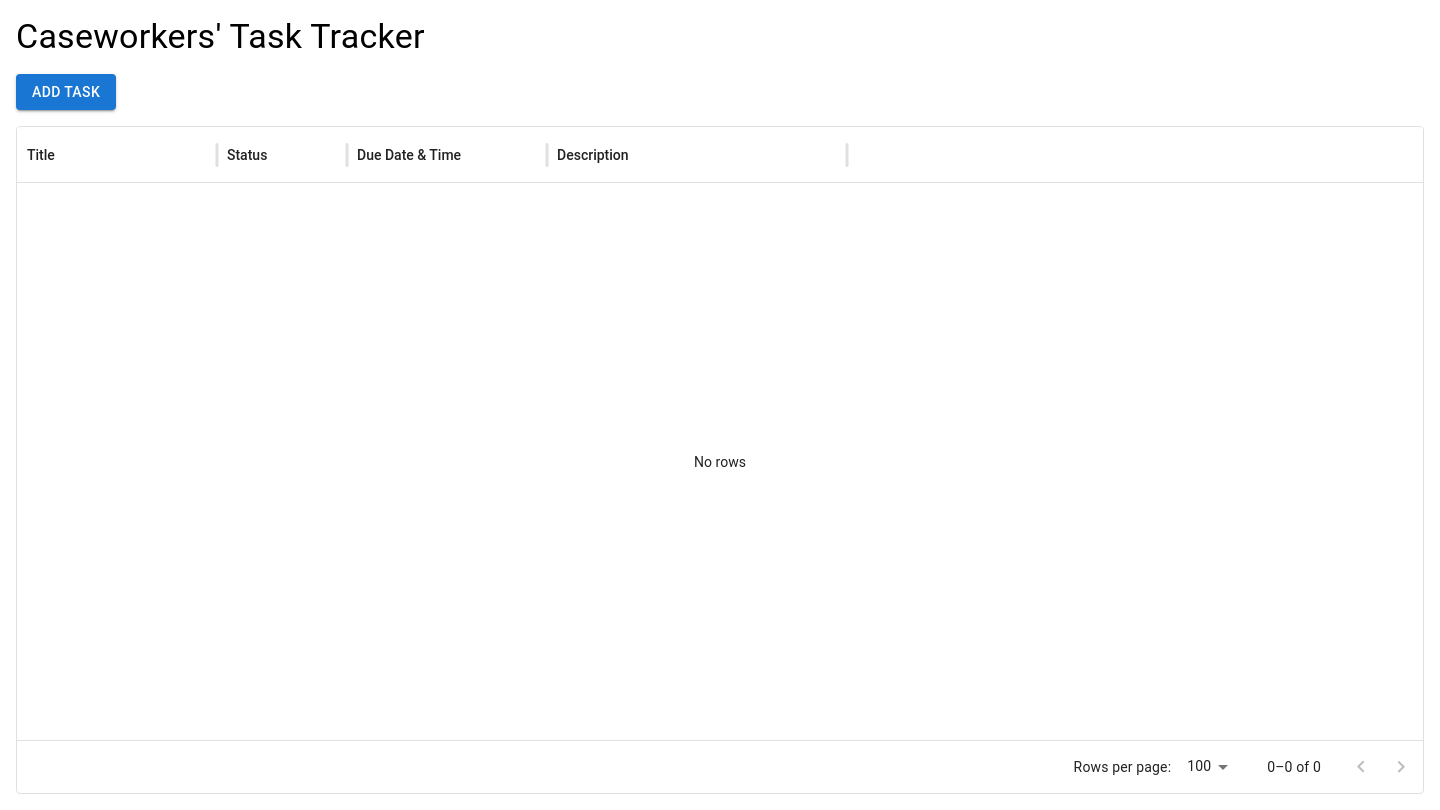
Scenario: TasksPage › opens AddTaskModalForm when clicking Add Task
Click the button "Add Task" at (66,92), box [16,74,116,110]
(page scrolled)
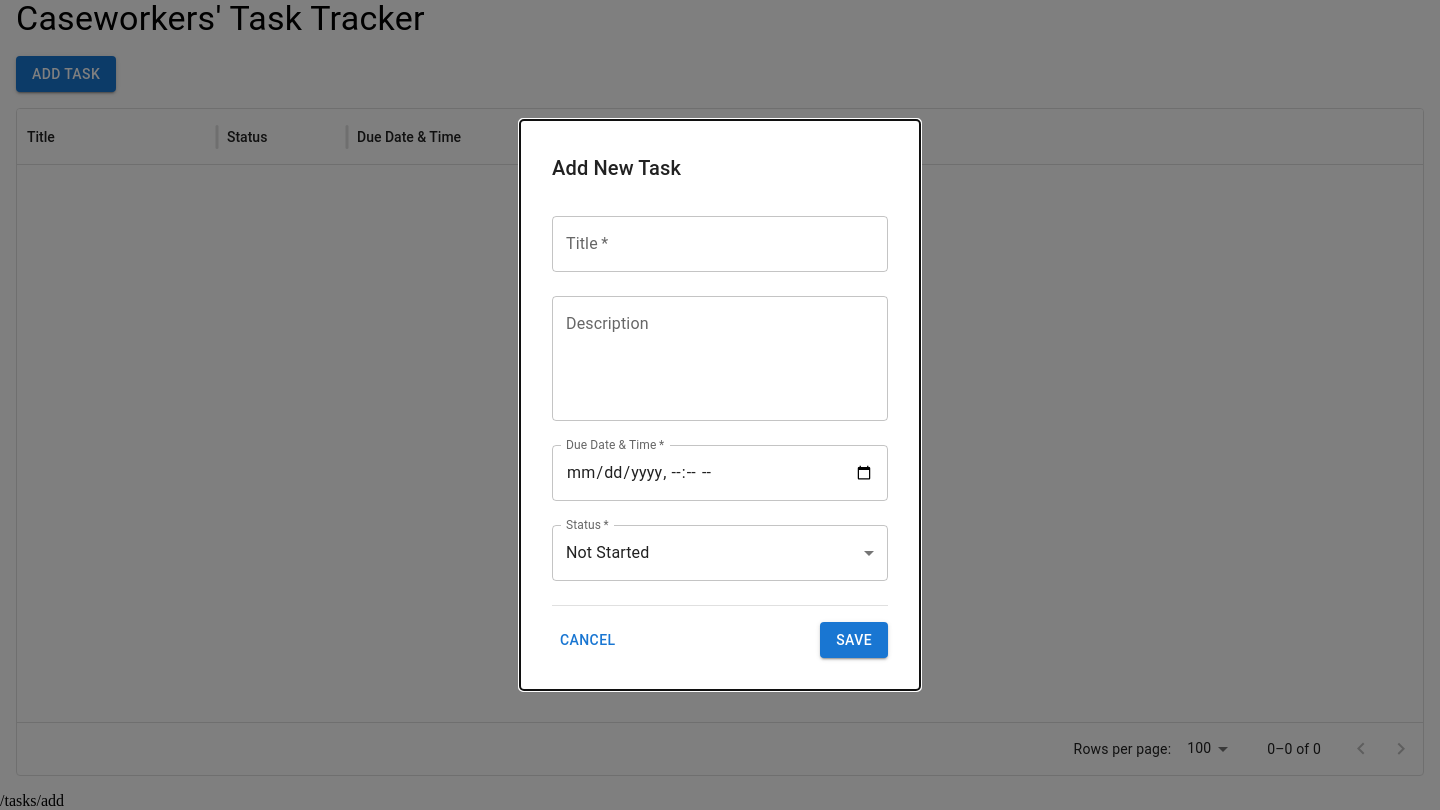
Expected: the heading "Add New Task" is shown, [552,156,681,180]
Expected: the text with test id "location-display" reads "/tasks/add", [0,792,64,809]
